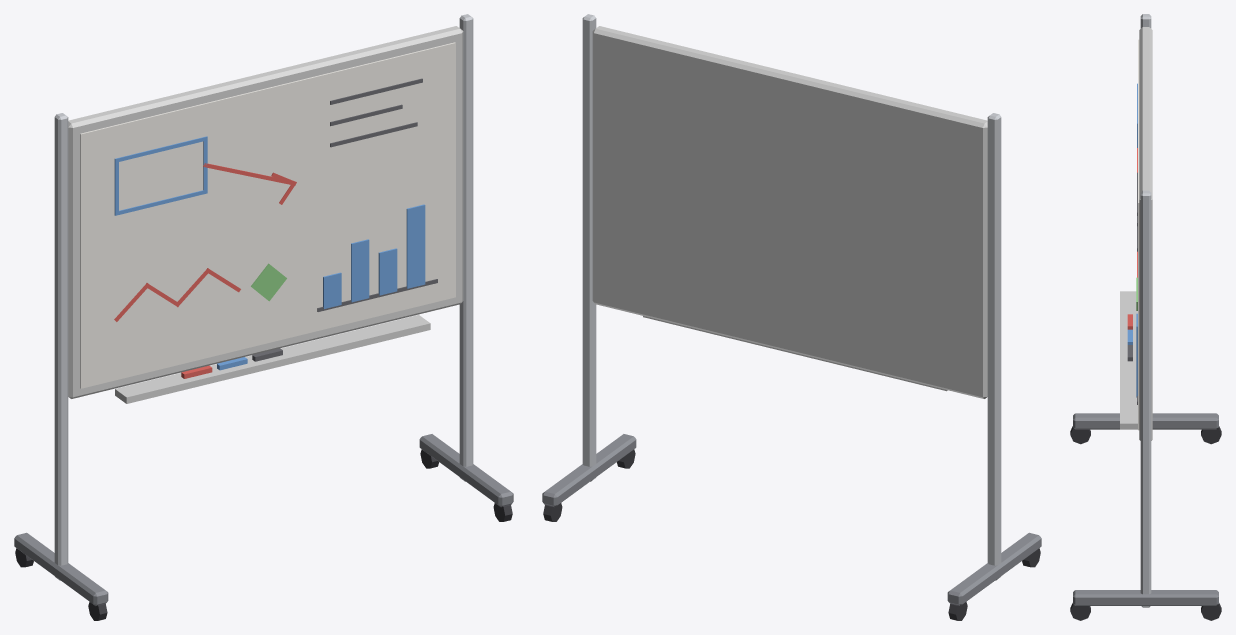
The model's file is prop_whiteboard_01.glb.
3 renders of one model, left to right at view 1: azimuth 30°, elevation 25°; view 2: azimuth 150°, elevation 25°; view 3: azimuth 270°, elevation 25°, orthographic. The views are drawn at different scales.
Visible parts, largest first — view 1: prop_whiteboard_01_body; view 2: prop_whiteboard_01_body; view 3: prop_whiteboard_01_body.
Boxes of the visible parts, bbox=[...] form: prop_whiteboard_01_body: bbox=[14, 14, 513, 620]; prop_whiteboard_01_body: bbox=[542, 14, 1041, 620]; prop_whiteboard_01_body: bbox=[1070, 14, 1221, 620].
Bounding box in the file's own units: 1.66 × 1.81 × 0.58.
